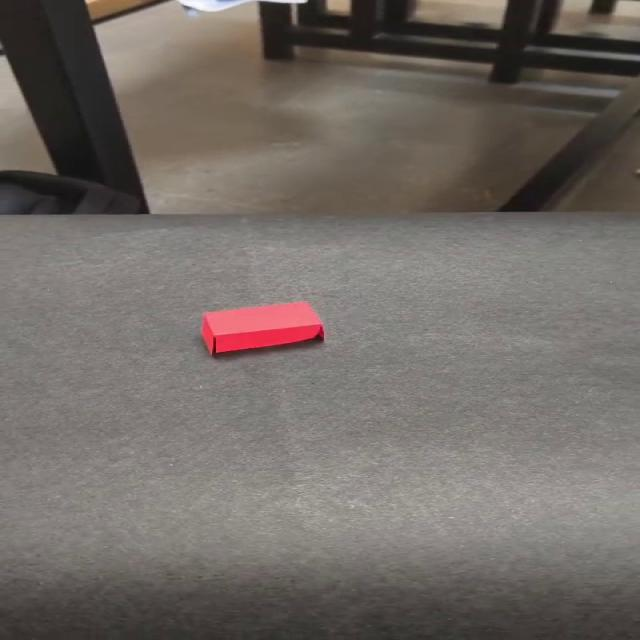red block: (199, 301, 325, 355)
